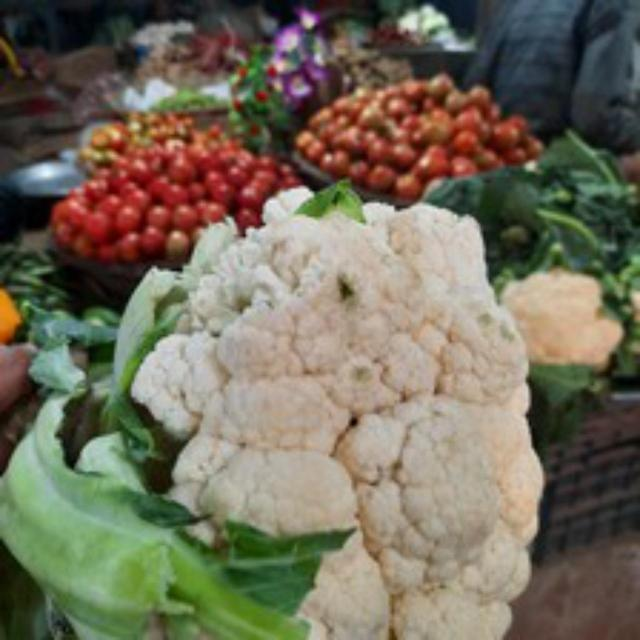cauliflower: (137, 194, 574, 637)
